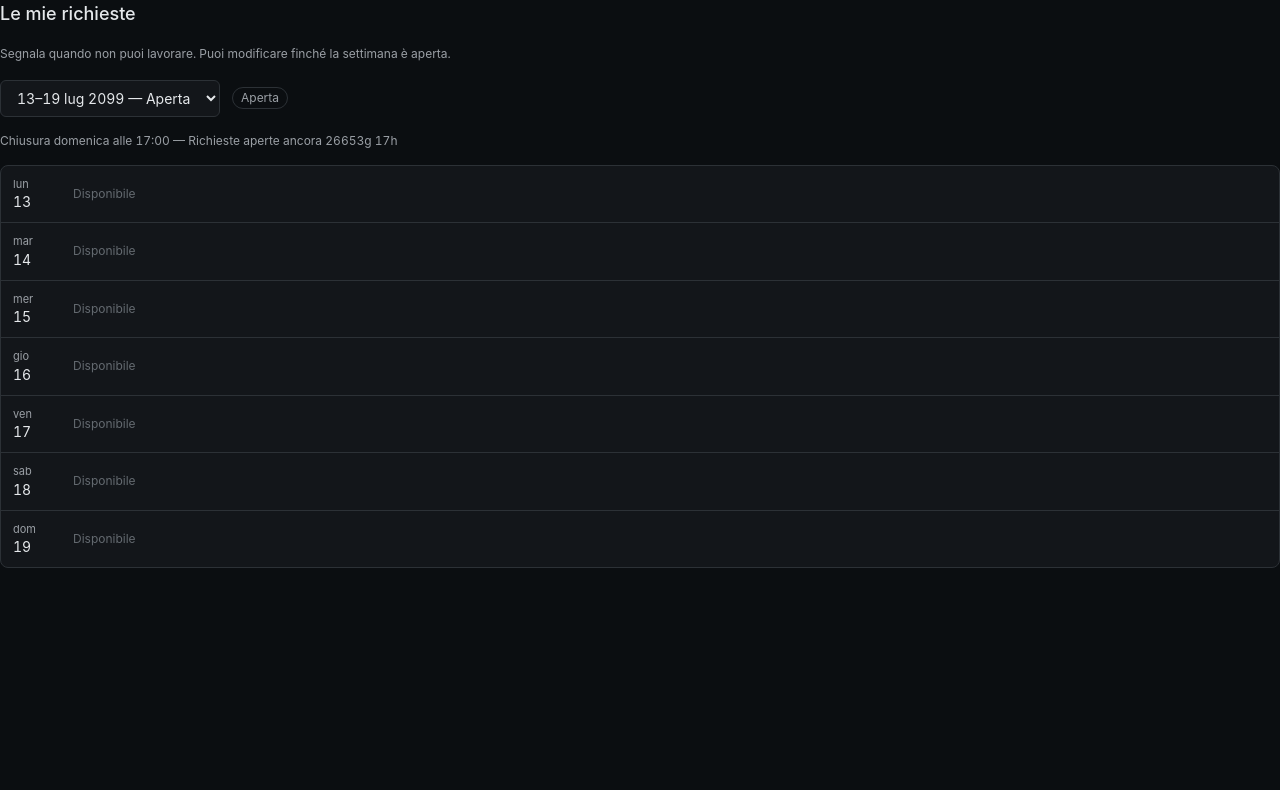
a hard weekend request warns that a human, not the solver, will handle it
Click the button with aria-label "Modifica " at coordinates (104, 481), box left=1, top=453, right=1279, bottom=510
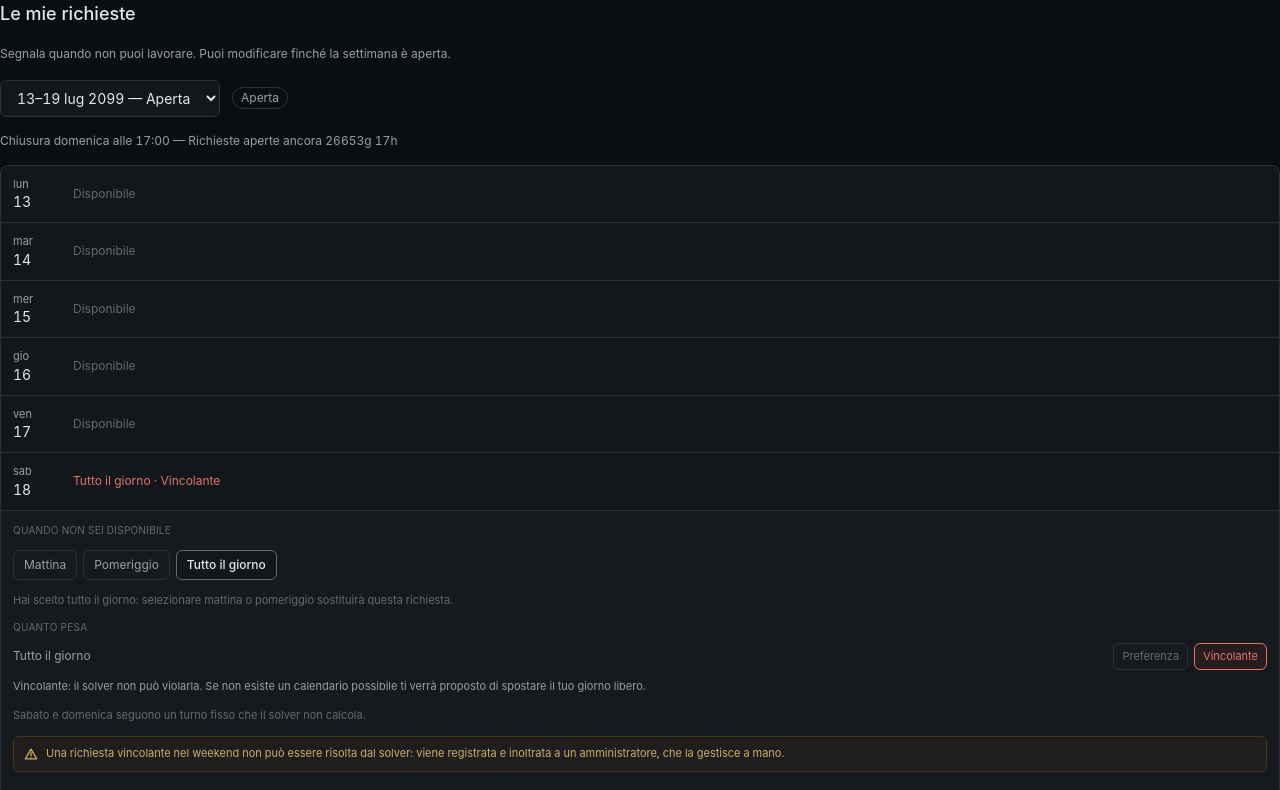
Now the text "Una richiesta vincolante nel weekend non può essere risolta dal solver: viene registrata e inoltrata a un amministratore" is shown, box left=46, top=746, right=784, bottom=760
